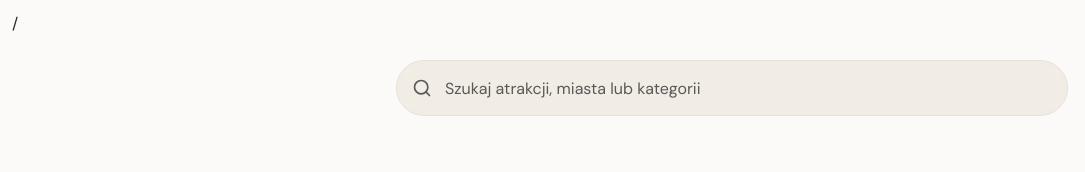
HomeSearch — fraza = replace (R1, wariant A) › Enter na pustym „/” zapisuje ?search= bez nowego wpisu historii
Type "sala zabaw" into the dropdown at (732, 88), box x1=396 y1=60 x2=1068 y2=116
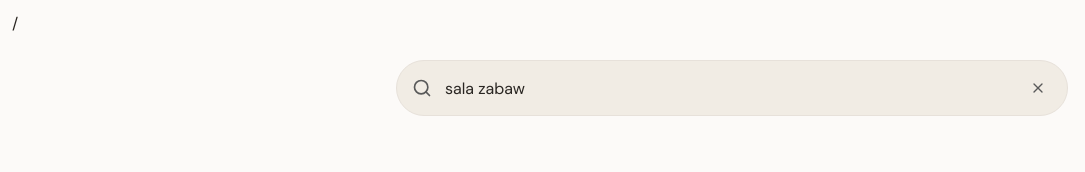
Press Enter in the dropdown, box x1=396 y1=60 x2=1068 y2=116
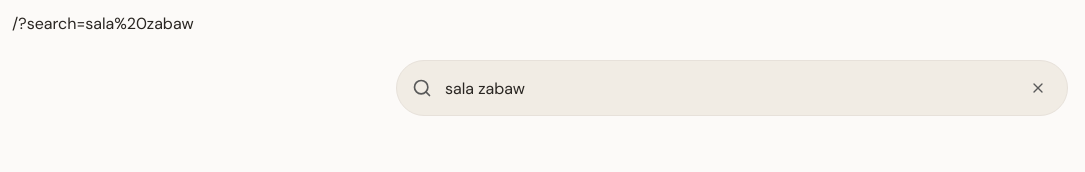
Check: the text with test id "adres" reads "/?search=sala%20zabaw", box x1=12 y1=13 x2=194 y2=34
